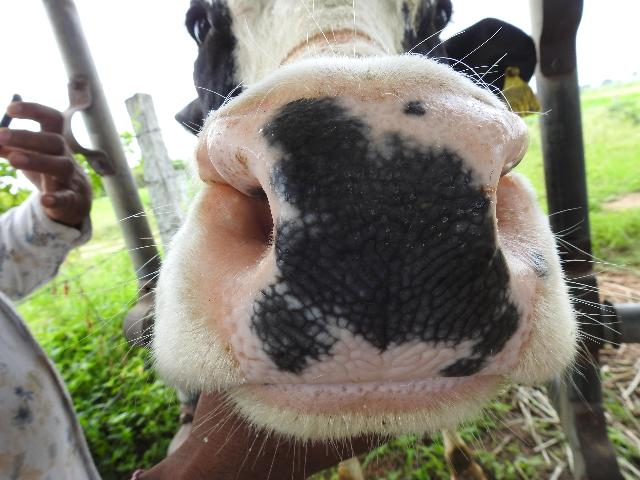Muzzle: (246, 122, 512, 368)
